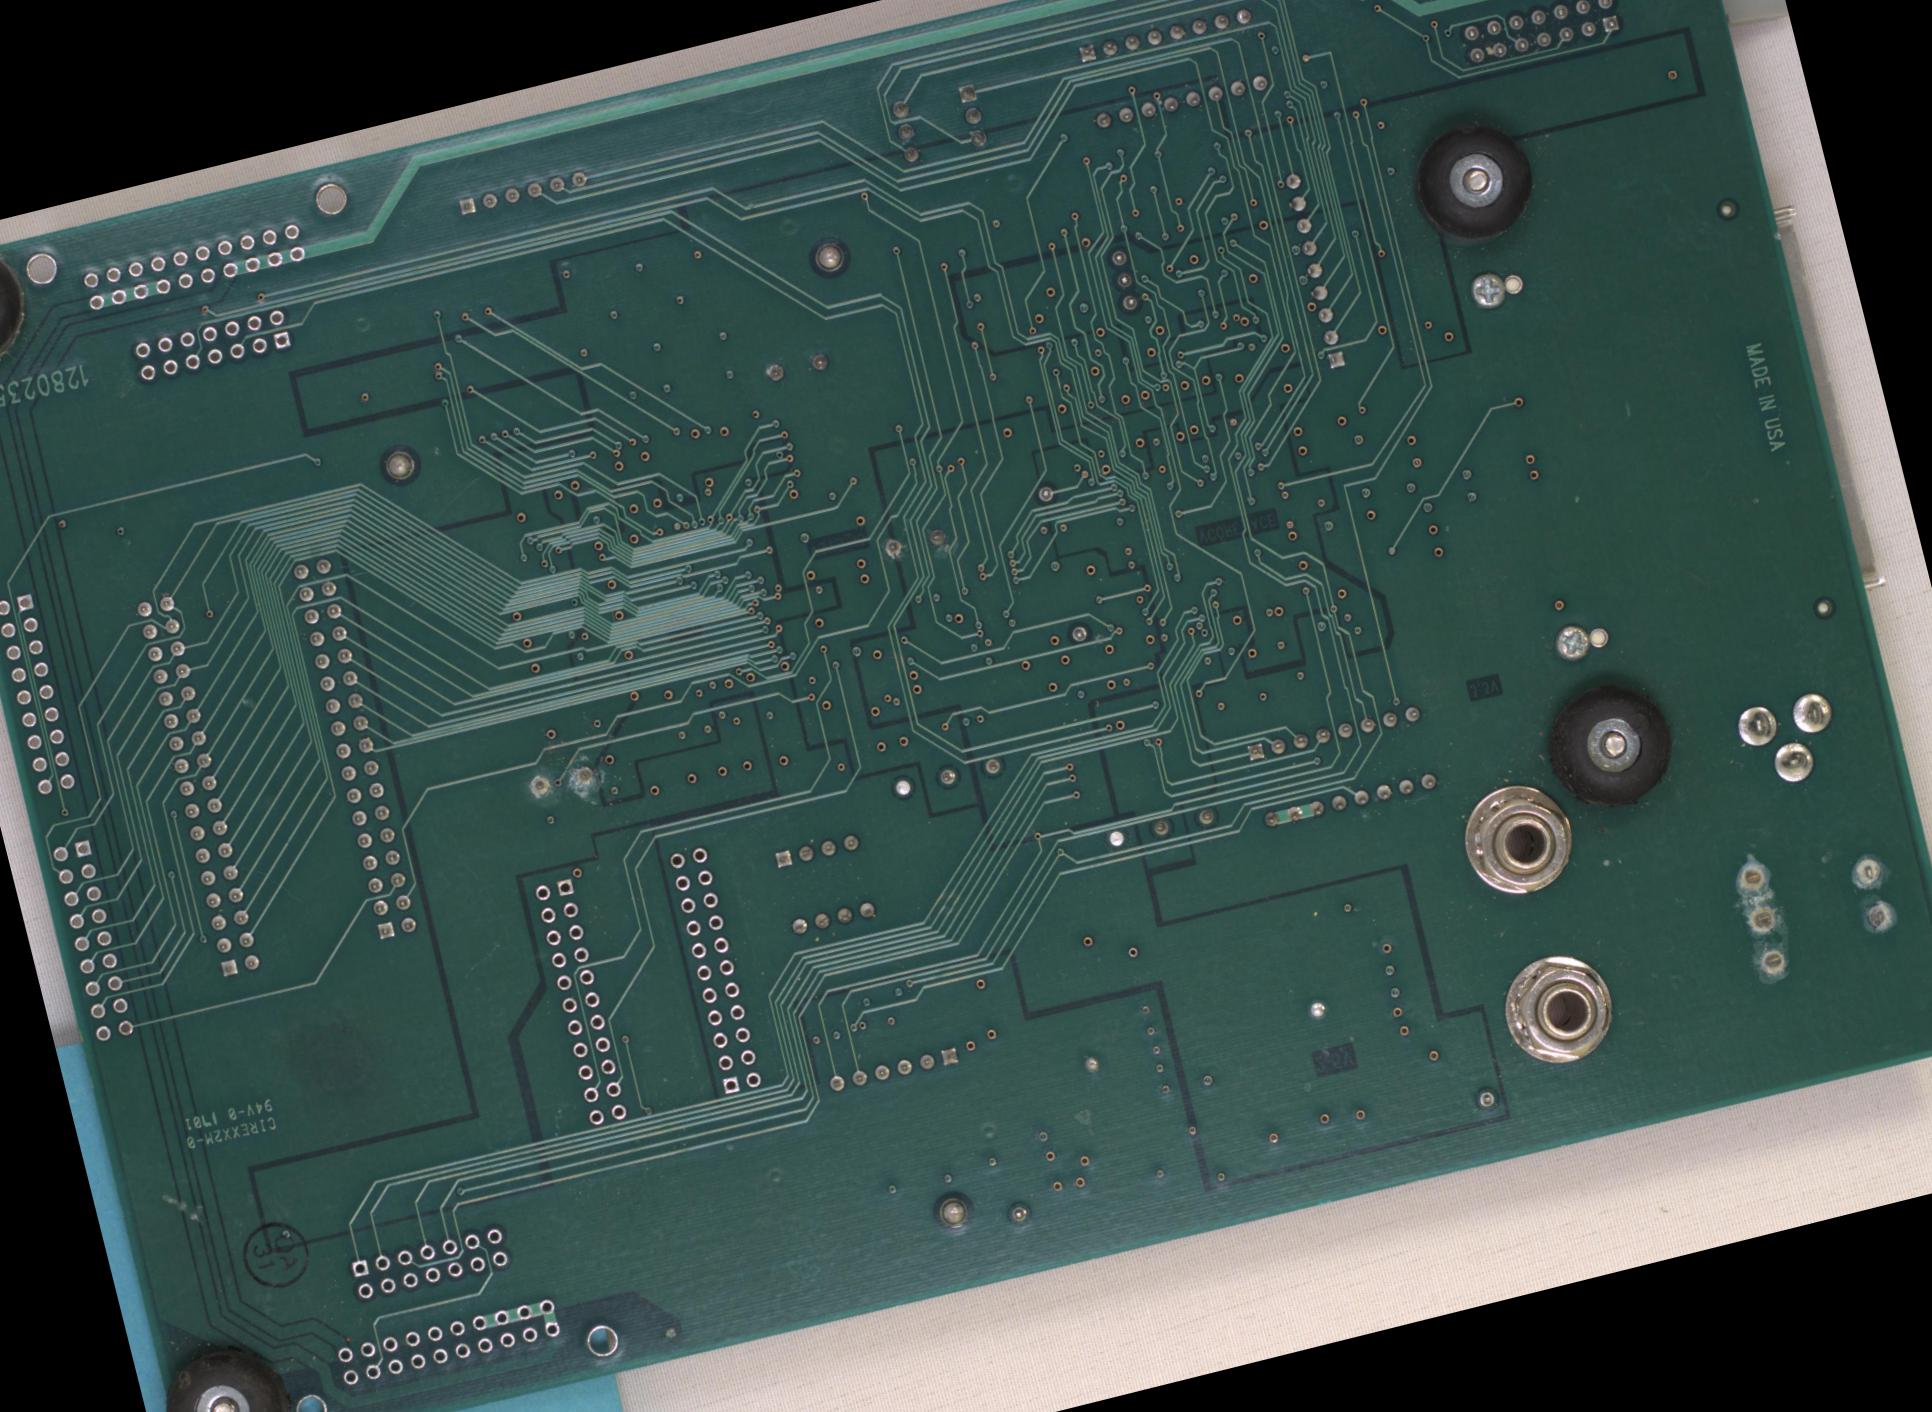Connector: (523, 870, 633, 1130), (663, 839, 768, 1100), (327, 1286, 567, 1397), (73, 213, 312, 320), (1485, 941, 1630, 1076), (46, 834, 138, 1046), (1449, 770, 1584, 908), (0, 587, 81, 803), (342, 1217, 514, 1307), (124, 302, 295, 389)
Pins: (283, 546, 426, 945), (127, 591, 268, 980), (1063, 0, 1279, 146), (1237, 693, 1447, 839), (1726, 822, 1906, 989), (1273, 162, 1359, 378), (1722, 671, 1857, 806), (765, 827, 880, 941), (1450, 0, 1629, 74), (1027, 474, 1096, 648), (880, 75, 994, 170), (822, 1037, 964, 1101), (883, 746, 1012, 809), (453, 165, 591, 219), (1101, 800, 1218, 852), (876, 515, 957, 570), (757, 342, 835, 393), (523, 756, 600, 803), (1102, 240, 1144, 320), (997, 1193, 1036, 1230), (1467, 1077, 1501, 1116)
